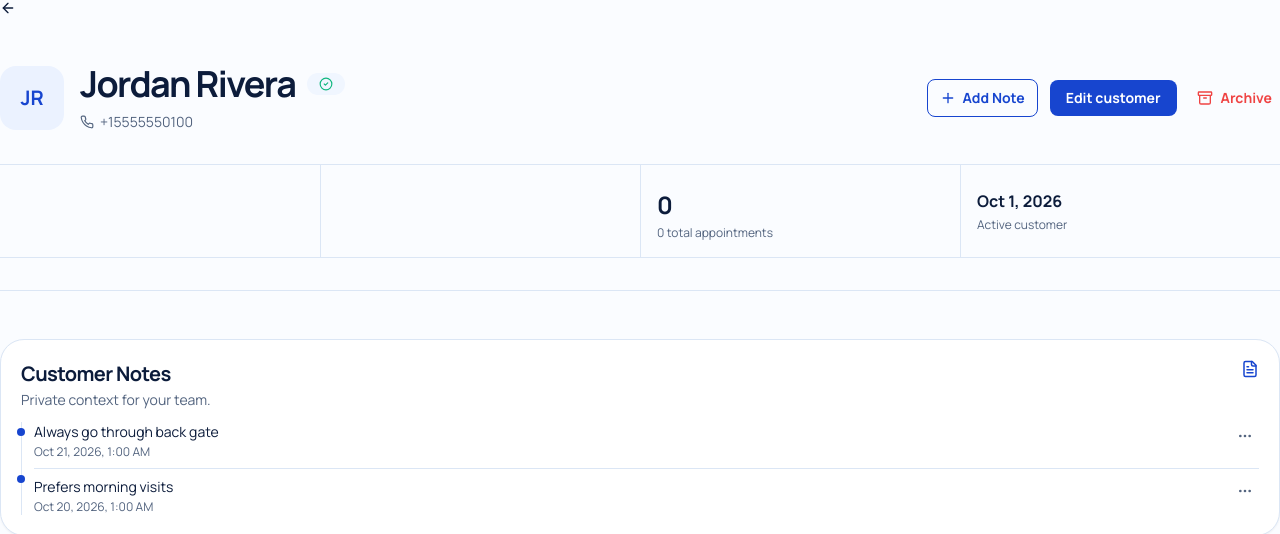
Test case: Customer profile notes › with existing notes › removes only the chosen note, for this customer, after it is confirmed
Expected: the text "Prefers morning visits" is shown, [34,477,173,497]
Click the button named "Note actions" in the row of "Always go through back gate": click(1245, 436) [1231,422,1259,450]
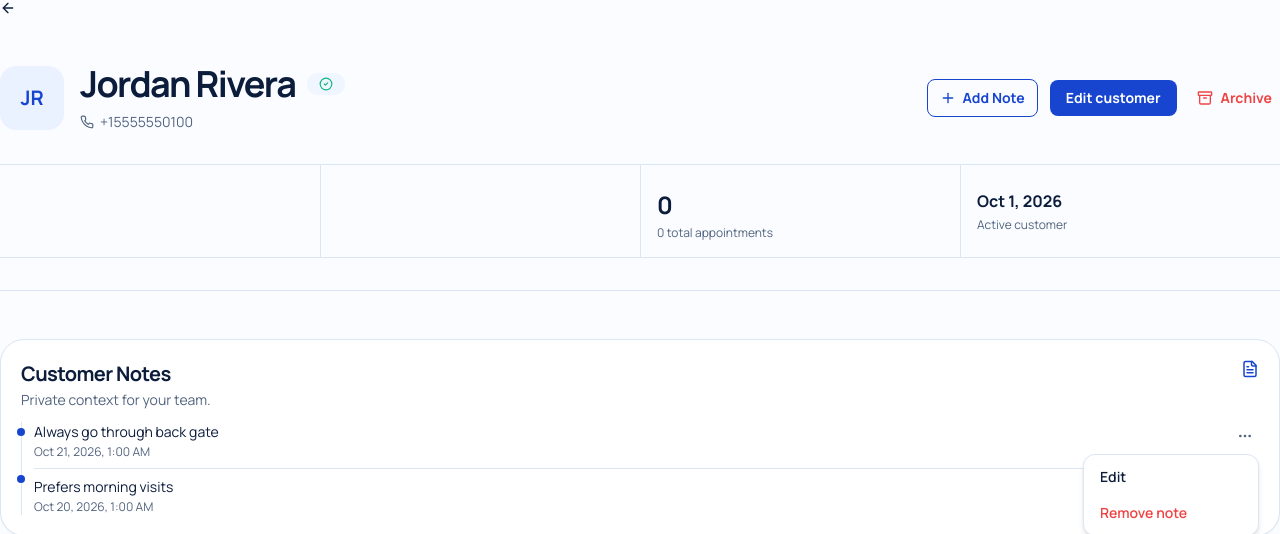
Click the menu item "Remove note": click(1171, 513) [1088,495,1254,531]
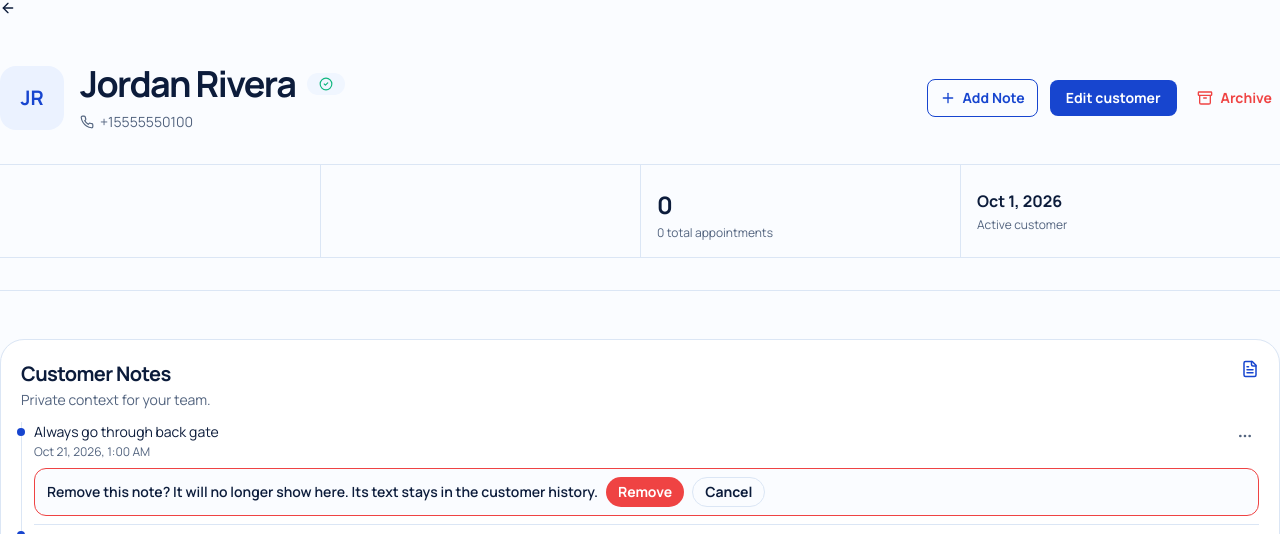
Click the button "Remove": click(645, 492) [606,477,684,507]
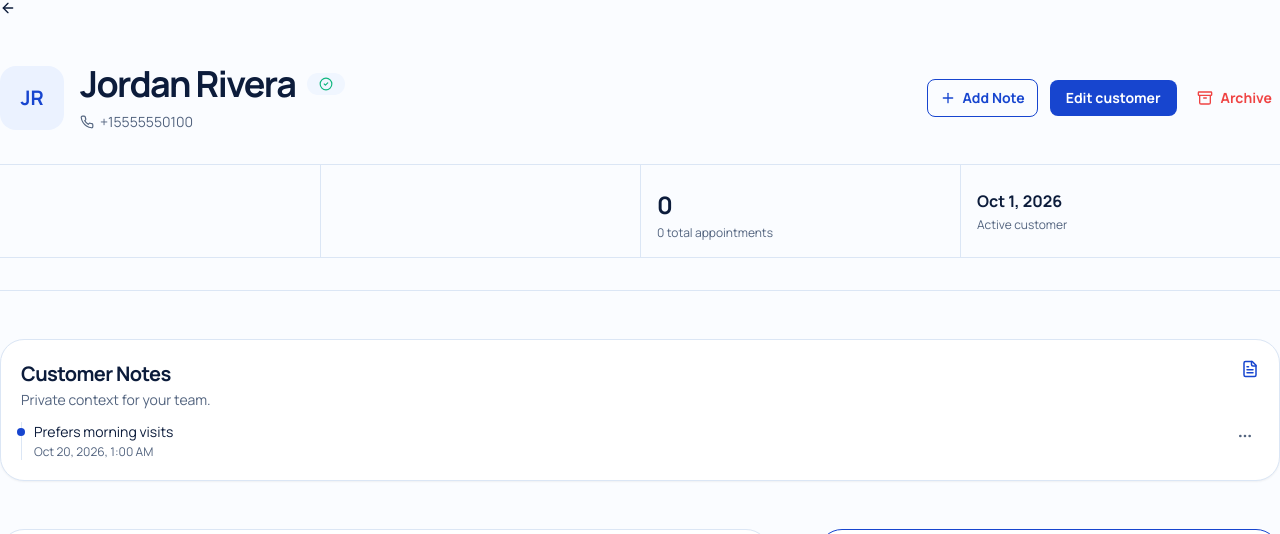
Expected: the text "Prefers morning visits" is shown, [34,422,173,442]
Result: the text "Always go through back gate" is gone
